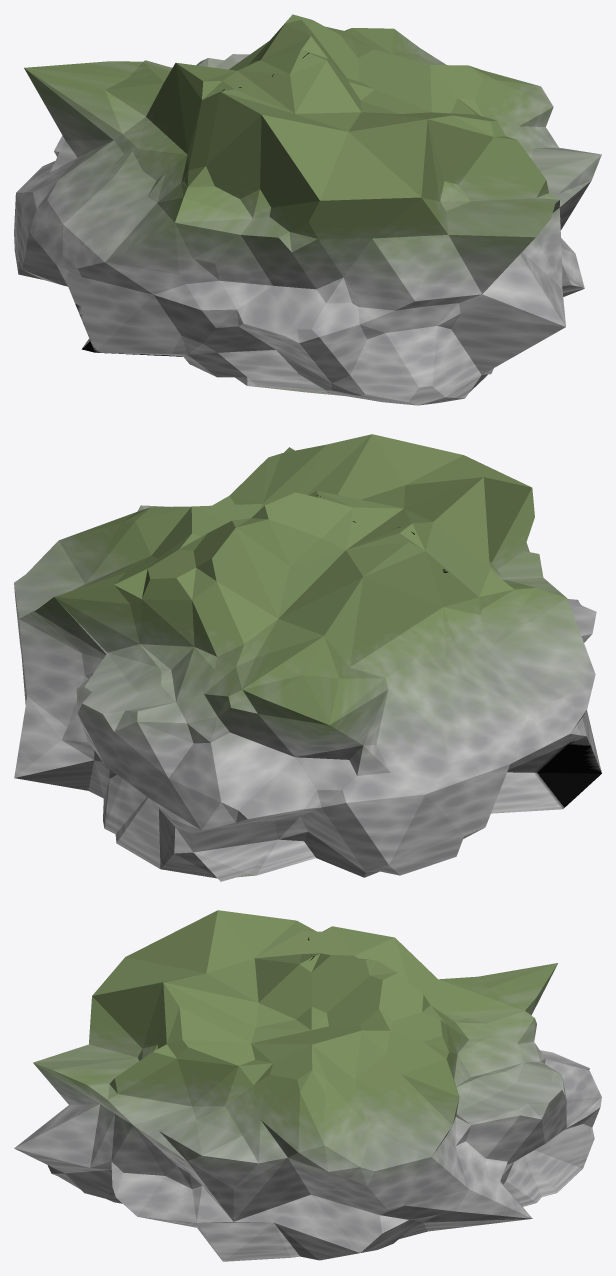
File: 이끼바위_02.fbx
3 renders of one model, top to bottom at view 1: azimuth 30°, elevation 25°; view 2: azimuth 150°, elevation 25°; view 3: azimuth 270°, elevation 25°, orthographic. The views are drawn at different scales.
Parts seen in each view (by area): view 1: 이끼바위_02; view 2: 이끼바위_02; view 3: 이끼바위_02.
Part boxes in pixels (box(x1,y1,x2,y2)): 이끼바위_02: box(14, 14, 601, 405); 이끼바위_02: box(14, 434, 601, 881); 이끼바위_02: box(14, 910, 601, 1261).
Bounding box in the file's own units: 2067 × 973 × 2359.
Materials: 1 (1 with a texture image).
